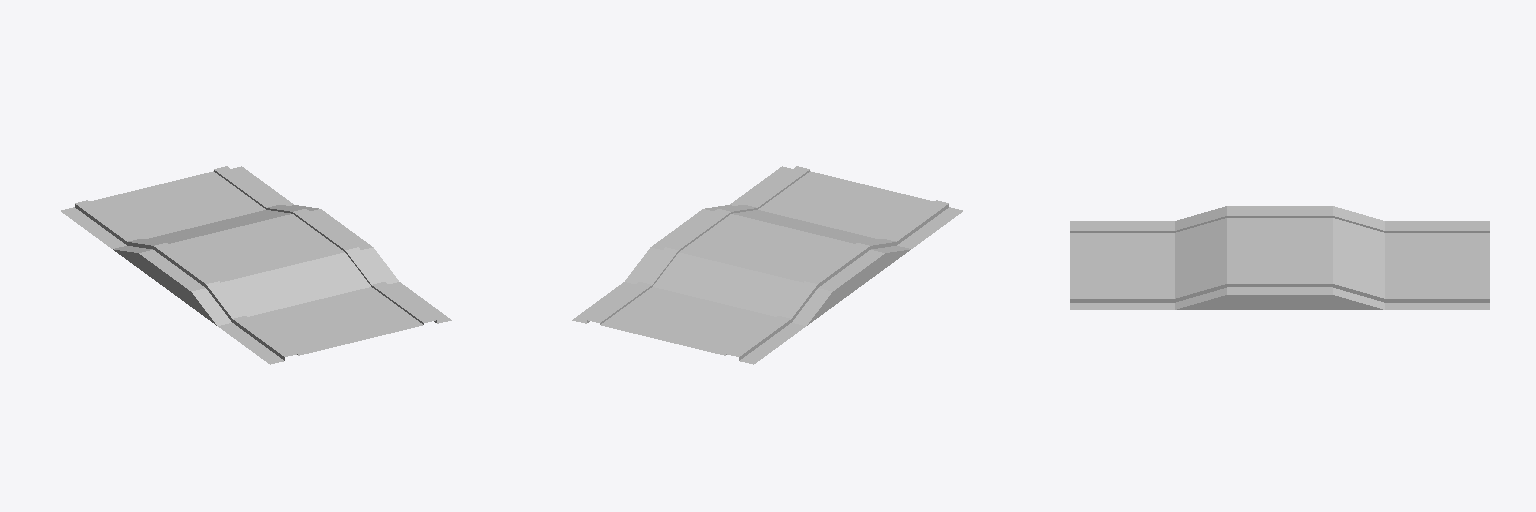
Rendered from roadBump.obj.
The picture shows the model from 3 angles: view 1: azimuth 30°, elevation 25°; view 2: azimuth 150°, elevation 25°; view 3: azimuth 270°, elevation 25°; orthographic projection.
Visible parts, largest first — view 1: roadBump; view 2: roadBump; view 3: roadBump.
Boxes of the visible parts, box(x1,y1,x2,y2) form: roadBump: box(61, 166, 451, 364); roadBump: box(572, 166, 962, 364); roadBump: box(1070, 206, 1489, 309).
Bounding box in the file's own units: 1 × 0.1 × 2.